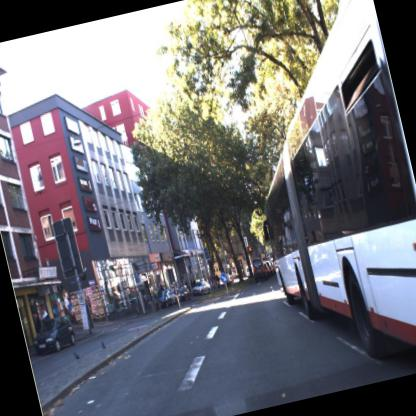mandatory: (218, 270, 228, 286)
